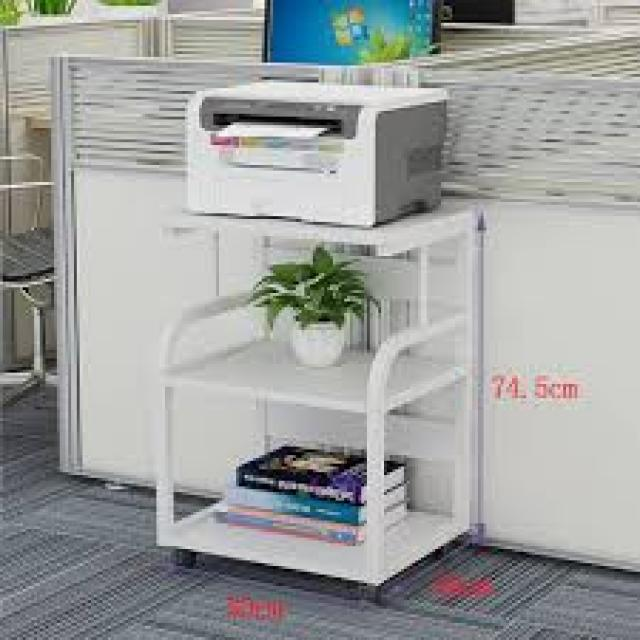printer: (182, 74, 447, 228)
